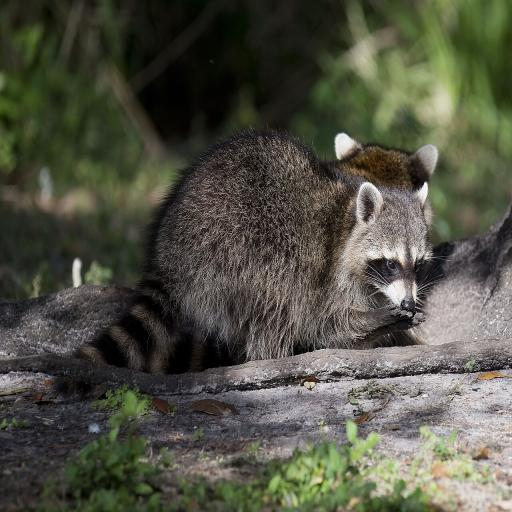raccoon: (78, 131, 431, 372), (332, 133, 438, 189), (333, 133, 437, 189)
